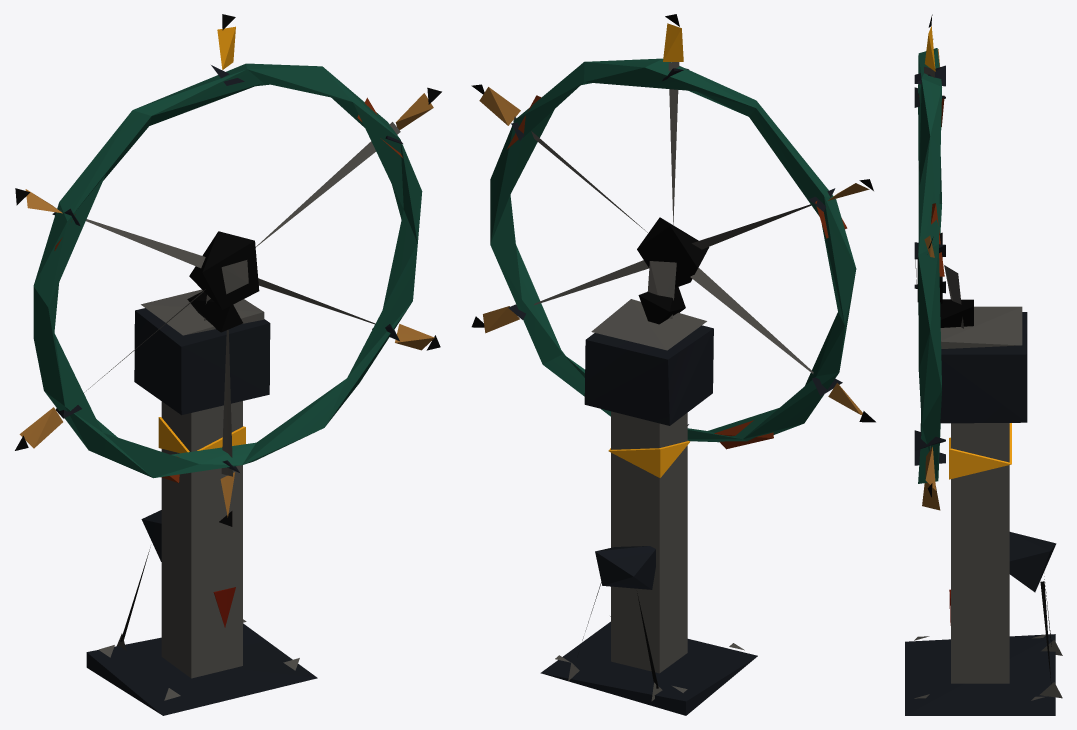
The model's file is upgrade_ship_s_wheel_ash_rudder.three-web-toon.lod25.glb.
The picture shows the model from 3 angles, left to right: view 1: azimuth 30°, elevation 25°; view 2: azimuth 150°, elevation 25°; view 3: azimuth 270°, elevation 25°; orthographic projection. The views are drawn at different scales.
Visible parts, largest first — view 1: upgrade_ship_s_wheel_ash_rudder_mesh_lod; view 2: upgrade_ship_s_wheel_ash_rudder_mesh_lod; view 3: upgrade_ship_s_wheel_ash_rudder_mesh_lod.
Boxes of the visible parts, box(x1,y1,x2,y2) form: upgrade_ship_s_wheel_ash_rudder_mesh_lod: box(15, 14, 441, 715); upgrade_ship_s_wheel_ash_rudder_mesh_lod: box(471, 14, 875, 715); upgrade_ship_s_wheel_ash_rudder_mesh_lod: box(905, 14, 1062, 715).
Bounding box in the file's own units: 1.16 × 1.77 × 0.377.
